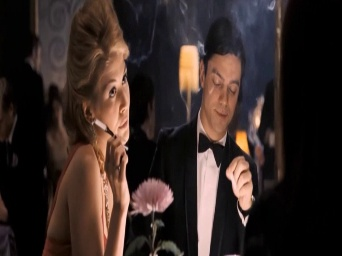smoke: (92, 119, 117, 139)
